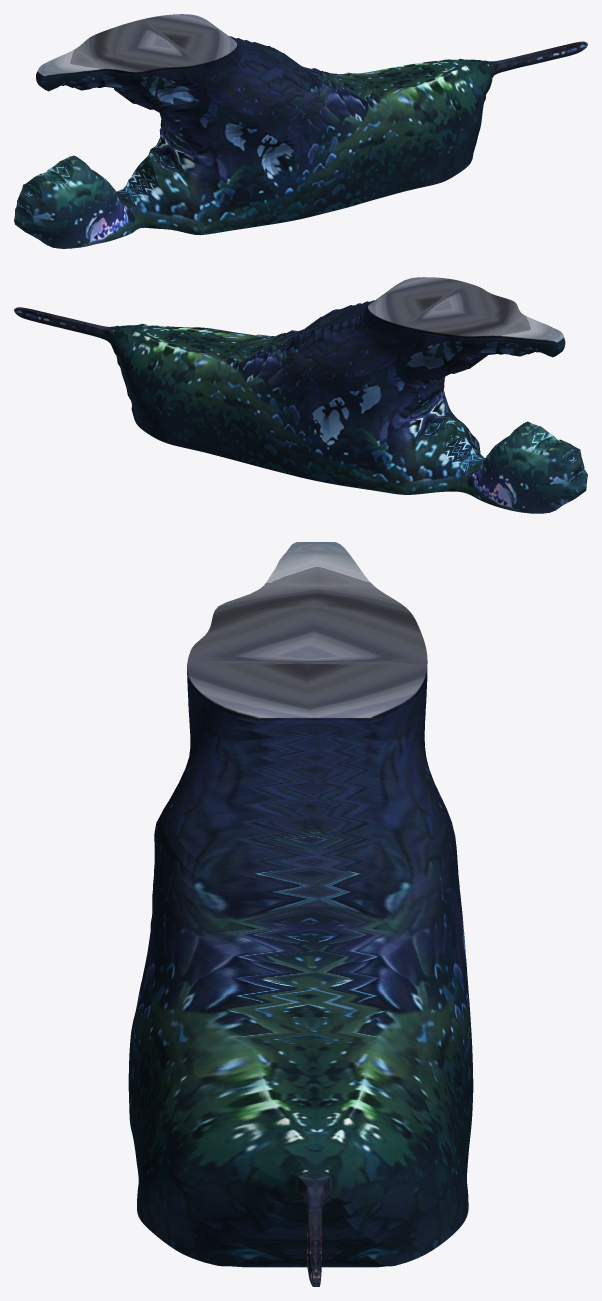
The model's file is huge_tree_2.glb.
The picture shows the model from 3 angles, top to bottom: view 1: azimuth 30°, elevation 25°; view 2: azimuth 150°, elevation 25°; view 3: azimuth 270°, elevation 25°; orthographic projection. The views are drawn at different scales.
Parts seen in each view (by area): view 1: geometry_0; view 2: geometry_0; view 3: geometry_0.
Part boxes in pixels (x1,y1,x2,y2): geometry_0: (14, 14, 587, 248); geometry_0: (14, 277, 587, 513); geometry_0: (128, 542, 473, 1286).
Bounding box in the file's own units: 23.29 × 6.49 × 6.11.
Materials: 1 (1 with a texture image).
